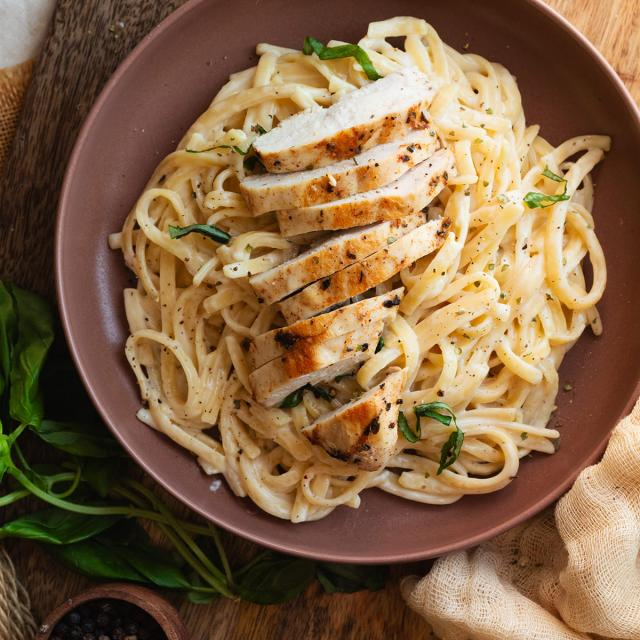pasta: (109, 4, 622, 527)
